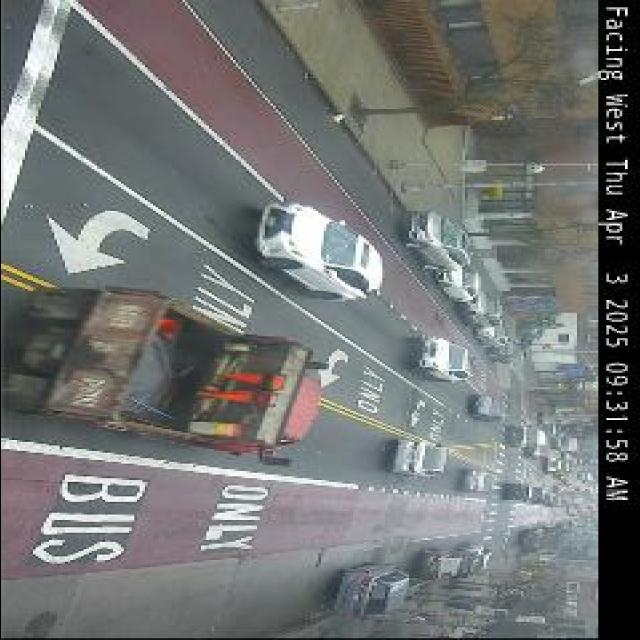open parking: (369, 160, 428, 237), (393, 558, 435, 598)
parkedCars: (312, 542, 498, 628), (404, 209, 494, 294), (465, 288, 531, 356)
